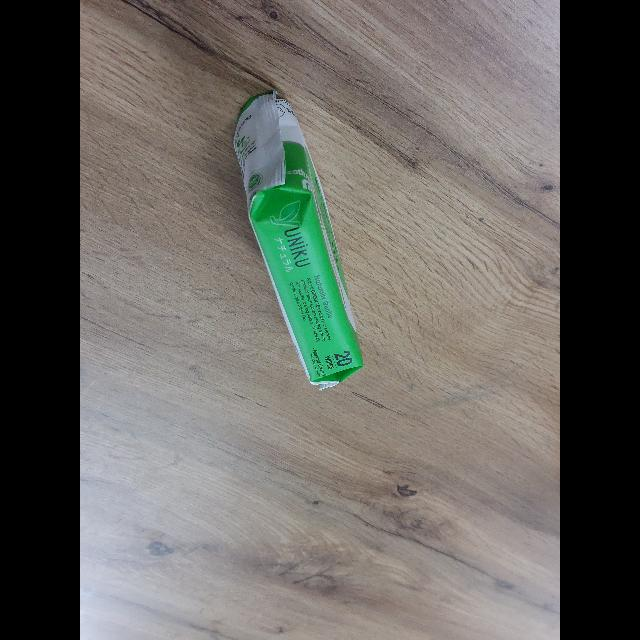khan_giay: (233, 88, 365, 388)
